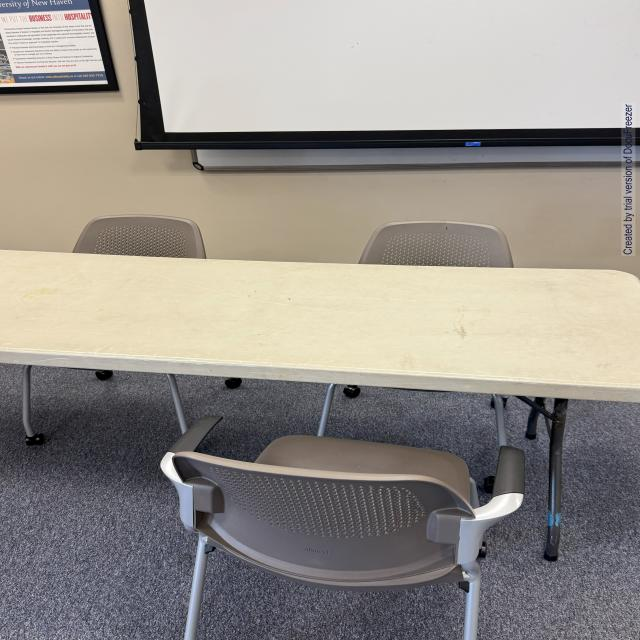Table: (2, 237, 640, 555)
chair: (166, 406, 530, 640), (344, 201, 517, 277), (62, 203, 213, 272)
